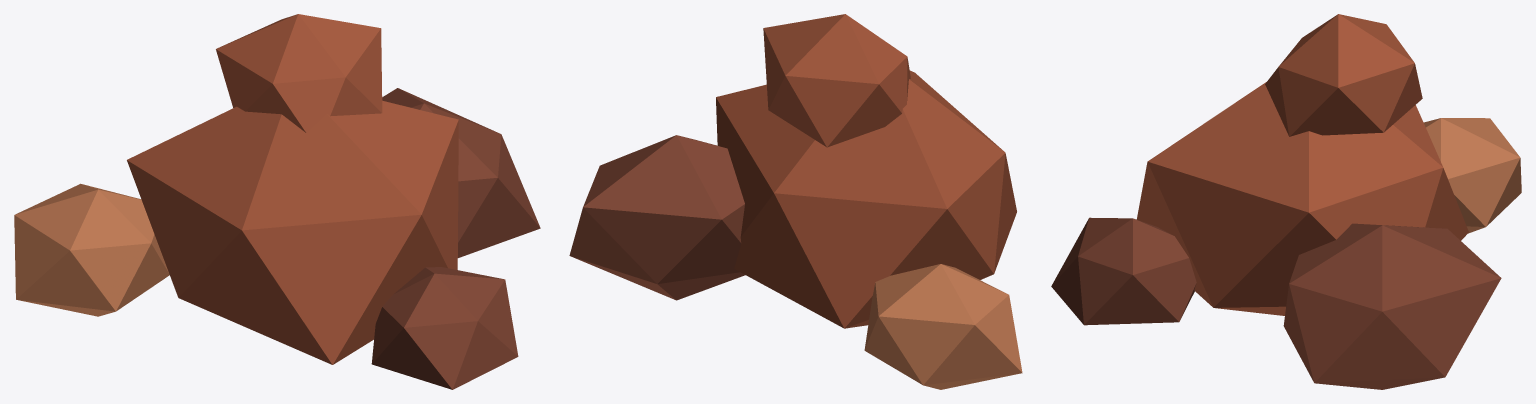
The model's file is boulders.glb.
The picture shows the model from 3 angles, left to right: view 1: azimuth 30°, elevation 25°; view 2: azimuth 150°, elevation 25°; view 3: azimuth 270°, elevation 25°; orthographic projection.
Parts seen in each view (by area): view 1: boulders; view 2: boulders; view 3: boulders.
Boxes of the visible parts, bbox=[...] form: boulders: bbox=[14, 14, 540, 389]; boulders: bbox=[569, 14, 1022, 389]; boulders: bbox=[1051, 14, 1521, 389].
Bounding box in the file's own units: 7.16 × 4.72 × 6.41.
